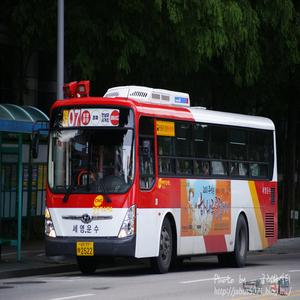07bus: (48, 73, 284, 272)
